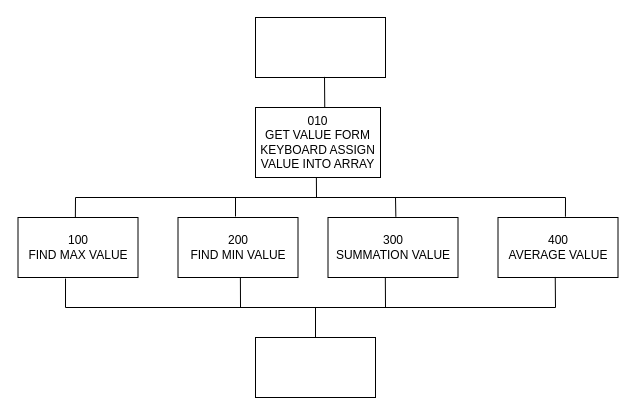
The diagram is 635 pixels wide and 415 high, and some of its shapes have lost their labels. The centre of each missing label's shape, as x and y in pixels:
"000 MATH CALCULATION REPORT" goes at point 320,47.
"550 SHOW STAT" goes at point 315,367.
